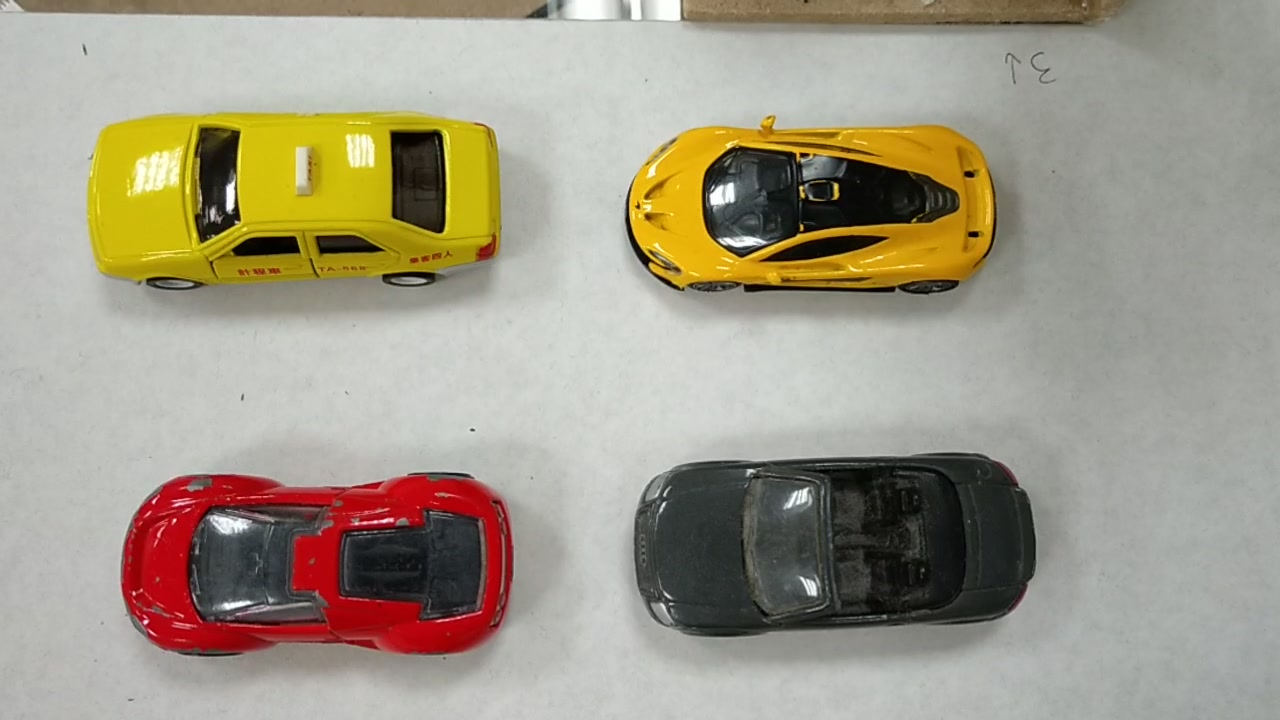car: (76, 107, 506, 306), (625, 447, 1043, 646), (107, 470, 513, 673), (611, 115, 1006, 315)
